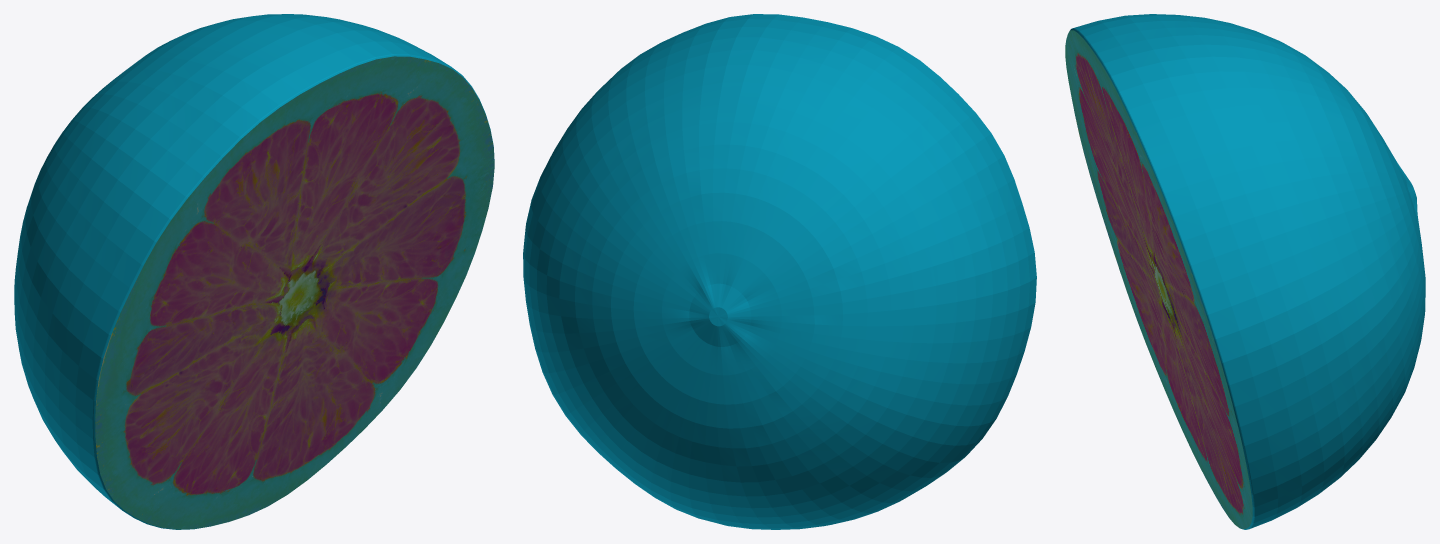
The model's file is limon.fbx.
The picture shows the model from 3 angles, left to right: view 1: azimuth 30°, elevation 25°; view 2: azimuth 150°, elevation 25°; view 3: azimuth 270°, elevation 25°; orthographic projection. The views are drawn at different scales.
Parts seen in each view (by area): view 1: Arch51_03_desk, Arch51_03_desk_2; view 2: Arch51_03_desk_2; view 3: Arch51_03_desk_2, Arch51_03_desk.
Boxes of the visible parts, <box> form: Arch51_03_desk: <box>95,56,494,529</box>; Arch51_03_desk_2: <box>14,14,494,529</box>; Arch51_03_desk_2: <box>523,14,1036,529</box>; Arch51_03_desk_2: <box>1069,14,1425,529</box>; Arch51_03_desk: <box>1065,30,1252,529</box>.
Bounding box in the file's own units: 0.2761 × 0.2763 × 0.1899.
